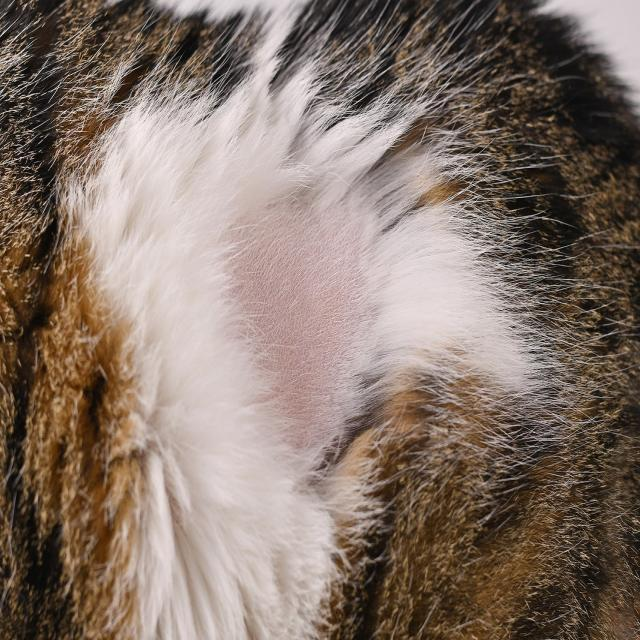hac lao: (82, 84, 520, 518)
